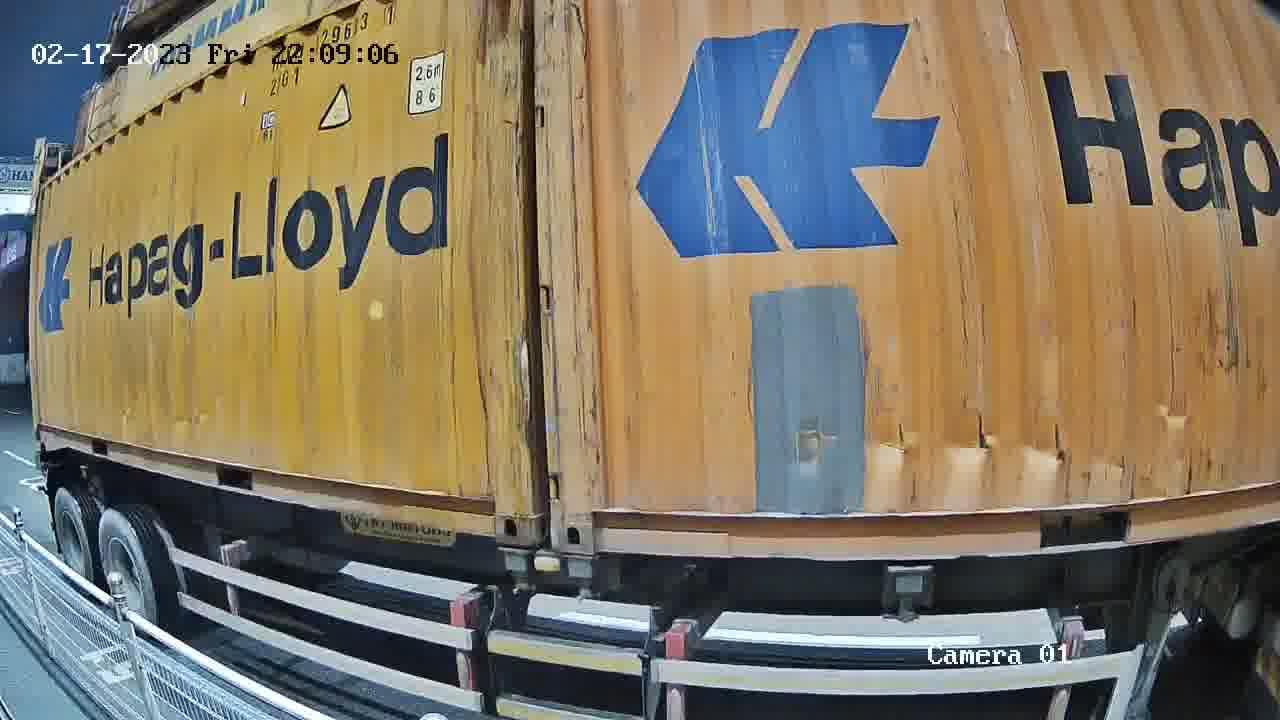Cone: (494, 545, 535, 593), (559, 555, 602, 600)
Hole_L: (551, 489, 628, 555)
Hole_R: (466, 480, 531, 546)
Tire: (99, 509, 161, 636), (53, 492, 93, 593)
